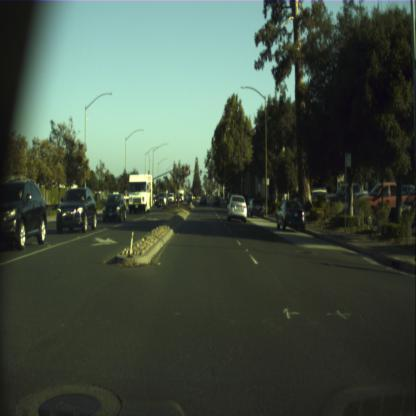Green: (200, 168, 202, 176), (226, 181, 228, 188)
Red: (188, 168, 190, 175)
